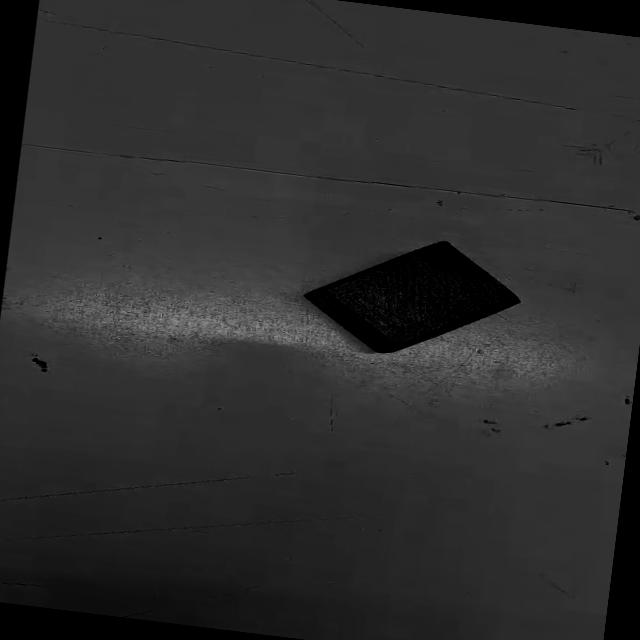bcube: (295, 223, 531, 369)
